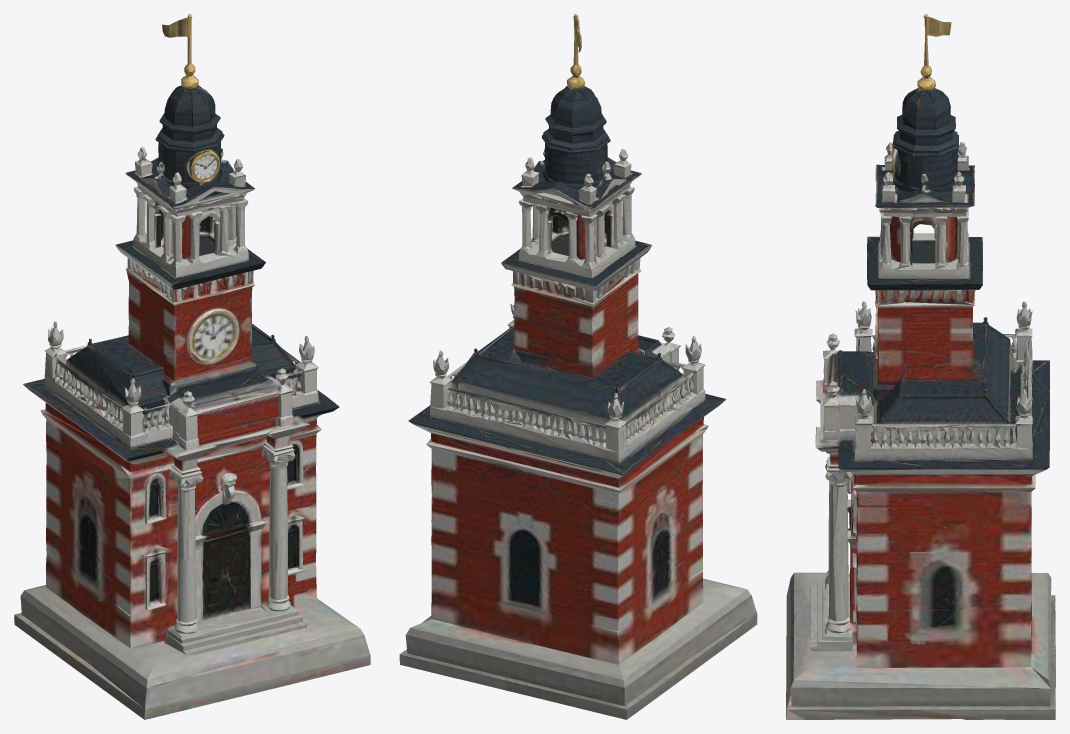
The model's file is lm_heritage_hall.glb.
3 views of the same model, side by side, from view 1: azimuth 30°, elevation 25°; view 2: azimuth 150°, elevation 25°; view 3: azimuth 270°, elevation 25° (orthographic). The views are drawn at different scales.
Size of the model in its own units: 0.7169 by 1.9 by 0.7169.
Materials: 1 (1 with a texture image).
